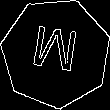M_S: (29, 25, 82, 81)
